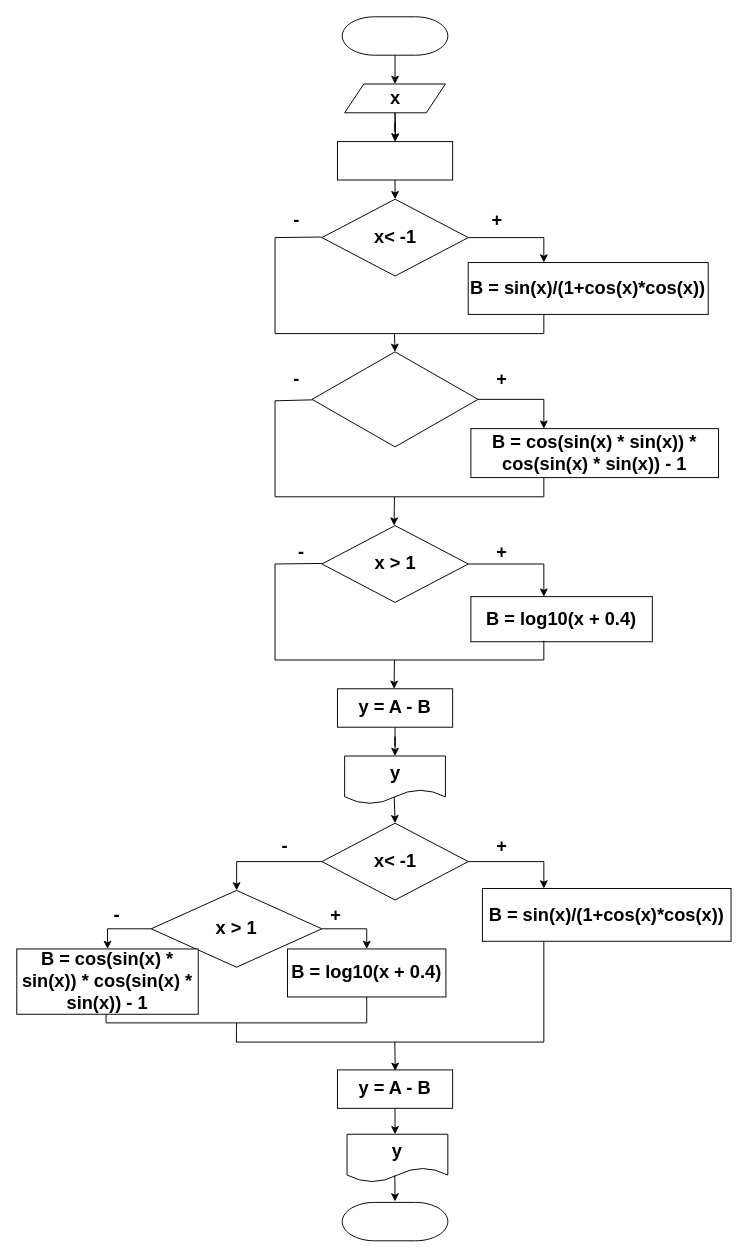
This 748x1258 diagram has some shape labels left out. The box of each missing label's shape, as (x1, y1, x2, y2) in pixels:
-1 <= x && x <= 1: (311, 351, 478, 447)
A = 2x - 13,5: (336, 141, 453, 180)
кінець: (341, 1201, 448, 1241)
початок: (341, 16, 448, 55)
